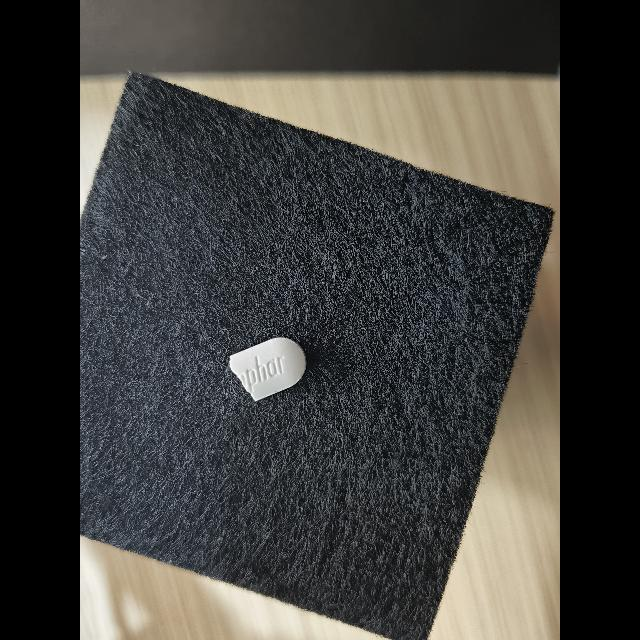Chipped Pill: (229, 337, 306, 402)
